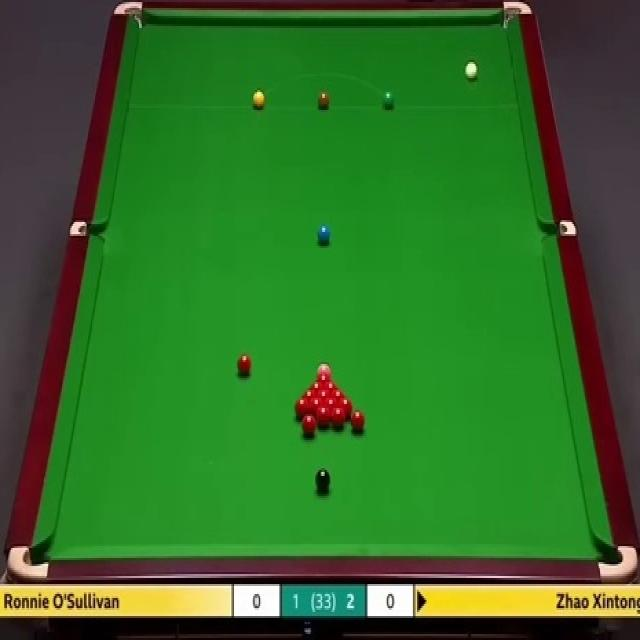black-ball: (315, 467, 331, 493)
blue-ball: (317, 224, 330, 242)
brown-ball: (317, 92, 330, 109)
green-ball: (382, 88, 396, 112)
pink-ball: (317, 363, 332, 380)
red-ball: (331, 405, 346, 431), (295, 396, 311, 420), (350, 409, 365, 434), (301, 412, 317, 434), (238, 353, 252, 378), (322, 398, 340, 416), (317, 405, 331, 426), (338, 397, 353, 416), (330, 387, 346, 402), (302, 387, 318, 401), (311, 398, 322, 418), (317, 388, 331, 402), (324, 378, 336, 394), (310, 380, 324, 392)
white-ball: (465, 60, 478, 81)
yellow-ball: (252, 89, 266, 110)
